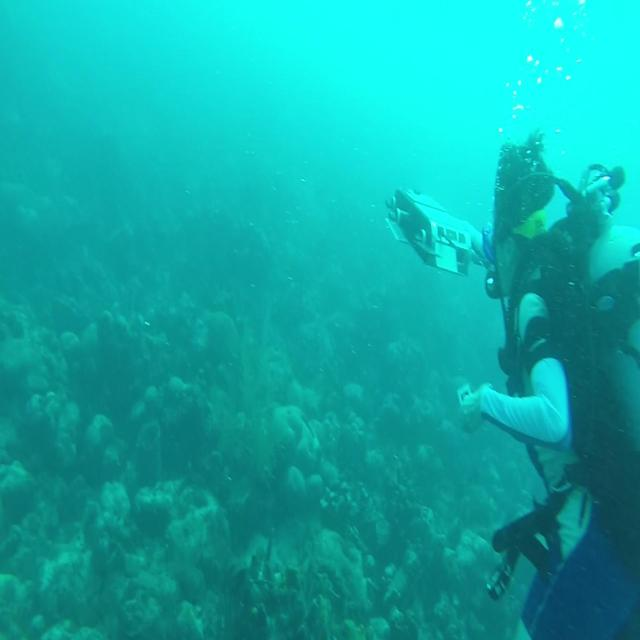human: (385, 129, 639, 637)
